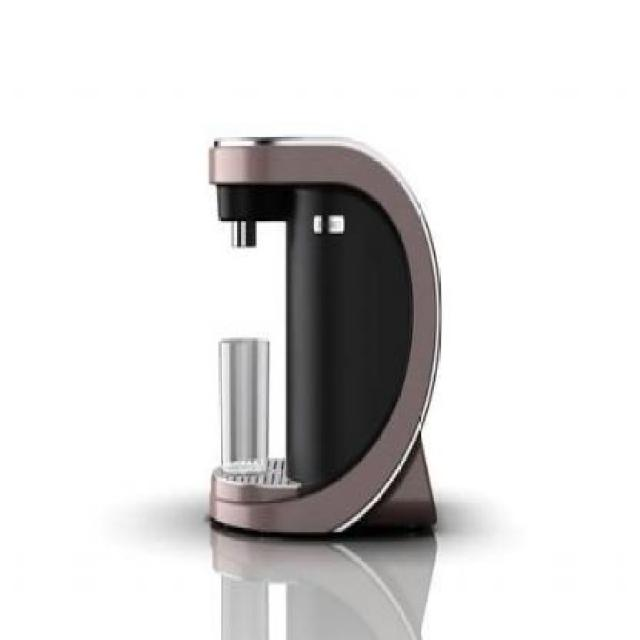cooler: (206, 131, 442, 536)
